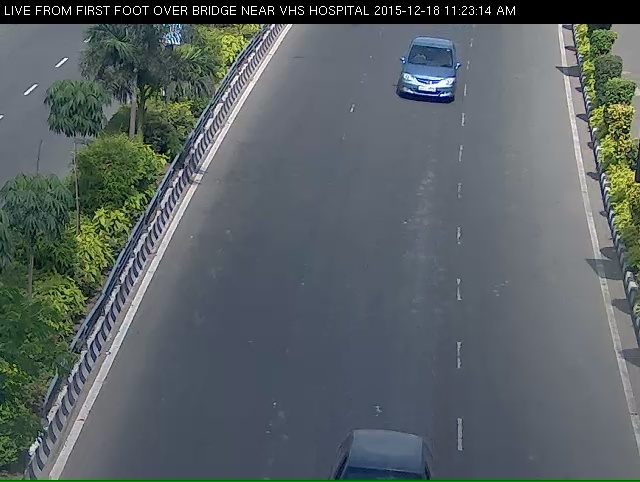Car: (386, 43, 465, 123)
